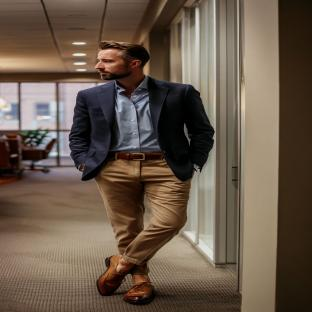Human: (70, 41, 214, 302)
